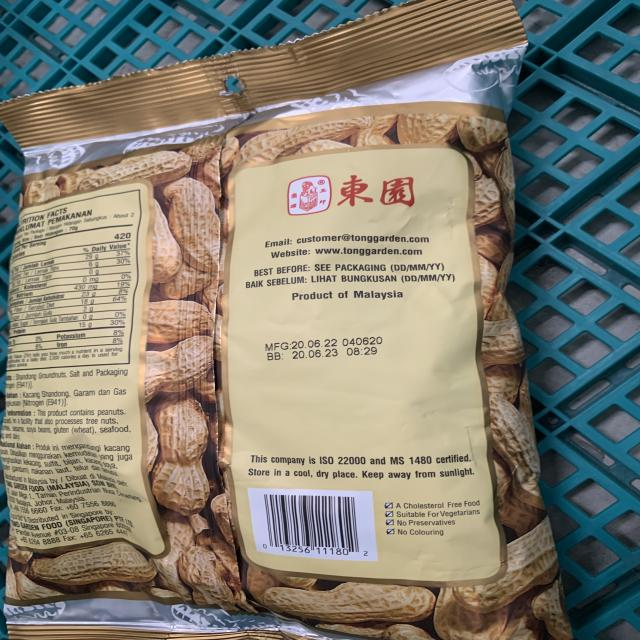object_name: (10, 31, 527, 640)
